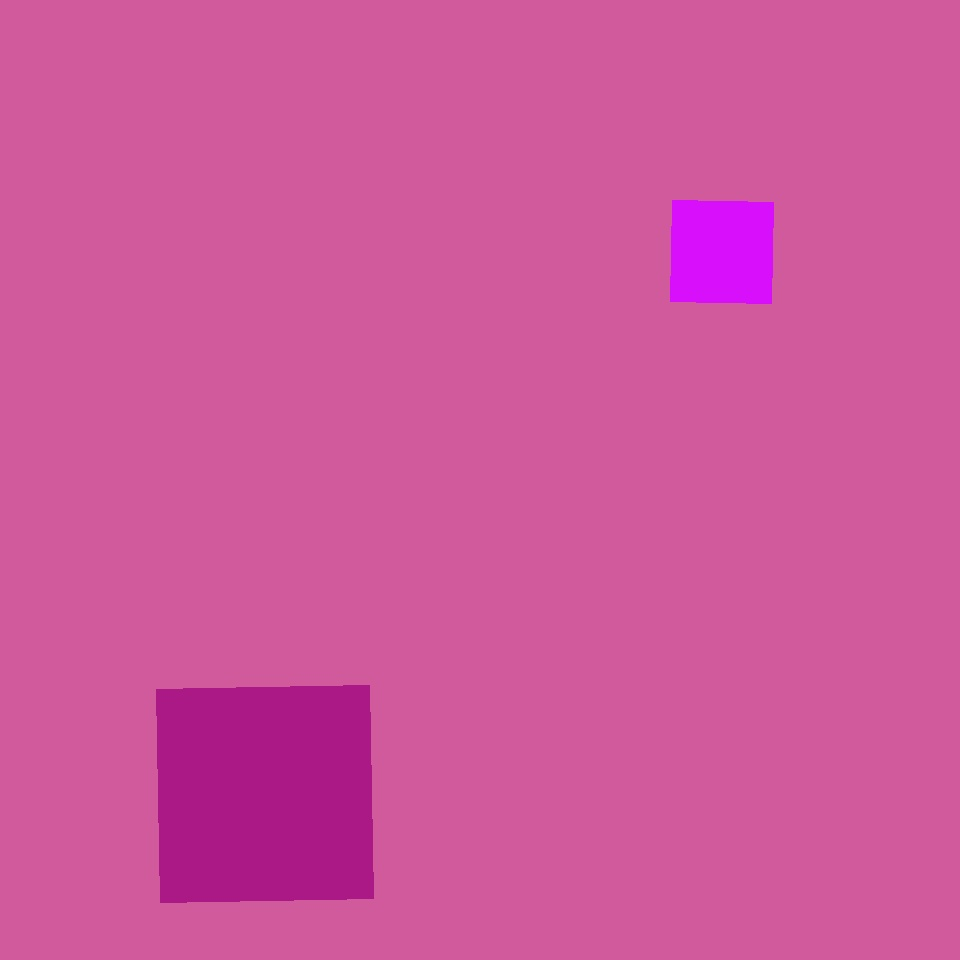circle: (250, 327, 568, 636), (636, 473, 885, 744)
square: (519, 341, 775, 596), (156, 685, 374, 902), (670, 200, 774, 304)
